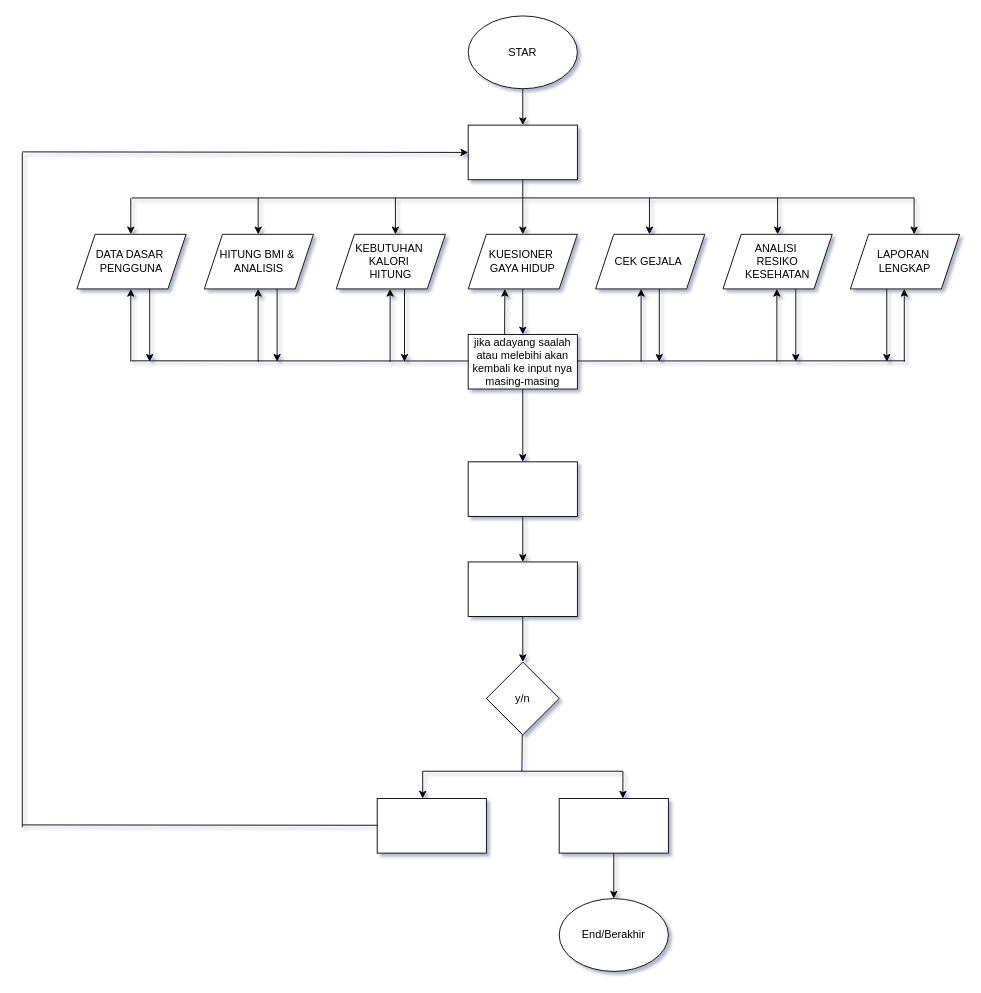
The diagram is 981 pixels wide and 993 high, and some of its shapes have lost their labels. Each missing label, with the centre of its shape:
"N(Tidak) Melanjut kaan pesan terakhir" goes at [613,825].
"SELAMAT DATANG" goes at [522,152].
"SIMPAN HASIL FILE" goes at [522,488].
"TAMPILKAN LAPORAN" goes at [522,589].
"Y(Ya) Kenbali ke prgram awal" goes at [431,825].
